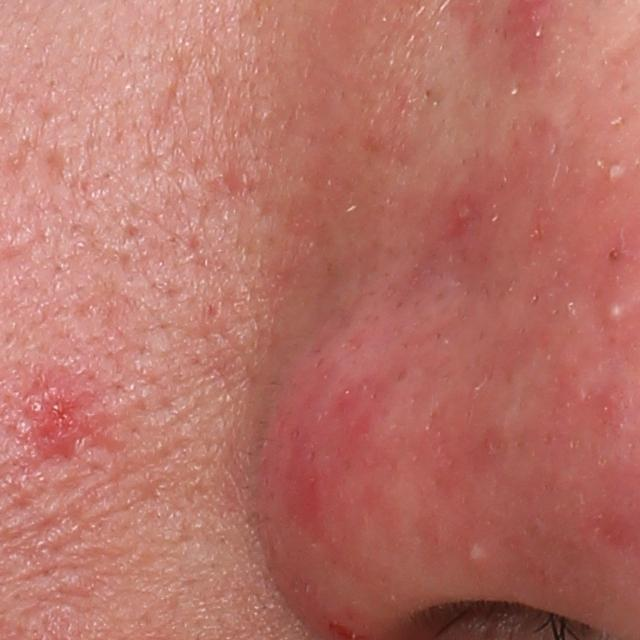comedo: (603, 244, 623, 262)
papule: (25, 372, 94, 452)
pustule: (460, 535, 491, 569), (600, 295, 629, 326), (599, 156, 628, 187)
